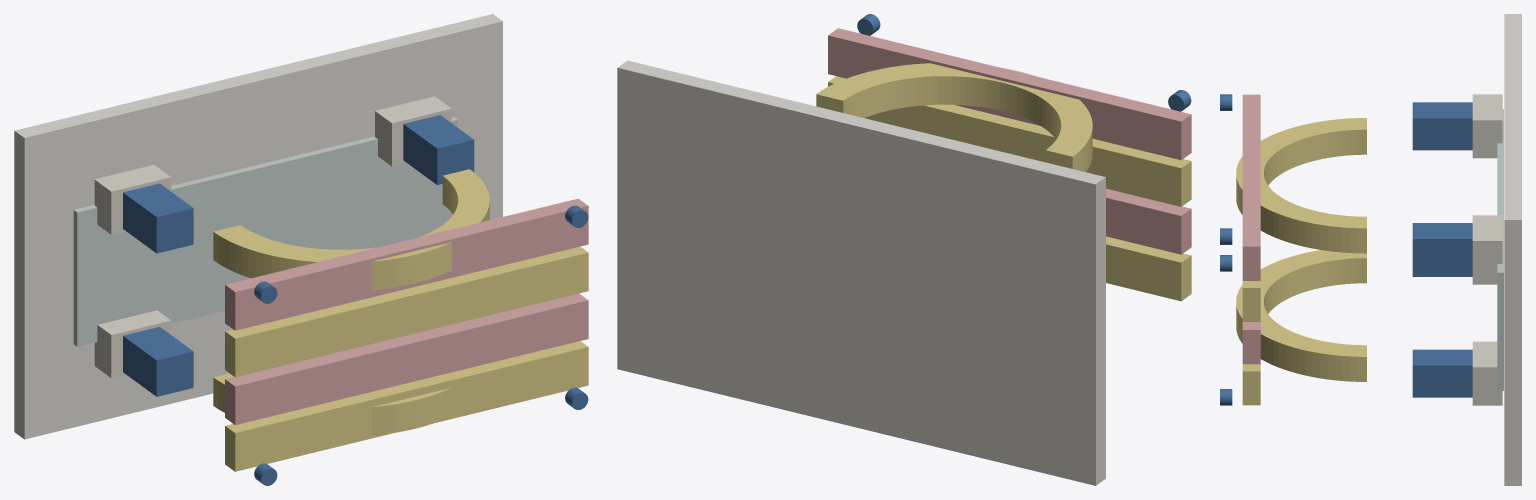
File: PLAYFORM_BRIDGE_EXPLODED.glb
3 views of the same model, side by side, from view 1: azimuth 30°, elevation 25°; view 2: azimuth 150°, elevation 25°; view 3: azimuth 270°, elevation 25° (orthographic). The views are drawn at different scales.
Visible parts, largest first — view 1: stage_base, river_patch, deck_plank_1, deck_plank_2, deck_plank_0, deck_plank_3, arch_0.64, pillar_-1.29_0.63, pillar_-1.29_-0.63, pillar_1.29_0.63, arch_-0.64, footing_-1.29_0.63 (+2 smaller); view 2: stage_base, arch_0.64, deck_plank_3, deck_plank_2, deck_plank_1, deck_plank_0; view 3: arch_0.64, arch_-0.64, stage_base, deck_plank_3, pillar_-1.29_0.63, pillar_1.29_-0.63, pillar_1.29_0.63, footing_-1.29_0.63, footing_1.29_0.63, footing_1.29_-0.63, river_patch, deck_plank_1 (+3 smaller).
Boxes of the visible parts, bbox=[...] form: stage_base: bbox=[14, 14, 502, 439]; river_patch: bbox=[73, 117, 457, 346]; deck_plank_1: bbox=[225, 293, 588, 424]; deck_plank_2: bbox=[225, 246, 588, 377]; deck_plank_0: bbox=[225, 341, 588, 471]; deck_plank_3: bbox=[225, 198, 588, 330]; arch_0.64: bbox=[213, 169, 489, 289]; pillar_-1.29_0.63: bbox=[123, 183, 193, 253]; pillar_-1.29_-0.63: bbox=[123, 326, 193, 396]; pillar_1.29_0.63: bbox=[403, 115, 474, 184]; arch_-0.64: bbox=[213, 373, 451, 435]; footing_-1.29_0.63: bbox=[94, 165, 171, 234]; stage_base: bbox=[617, 60, 1105, 485]; arch_0.64: bbox=[816, 63, 1092, 172]; deck_plank_3: bbox=[828, 28, 1191, 160]; deck_plank_2: bbox=[828, 76, 1191, 206]; deck_plank_1: bbox=[1106, 188, 1191, 254]; deck_plank_0: bbox=[1106, 236, 1191, 301]; arch_0.64: bbox=[1236, 118, 1366, 253]; arch_-0.64: bbox=[1236, 250, 1366, 381]; stage_base: bbox=[1504, 14, 1521, 485]; deck_plank_3: bbox=[1242, 94, 1260, 280]; pillar_-1.29_0.63: bbox=[1412, 102, 1472, 150]; pillar_1.29_-0.63: bbox=[1412, 349, 1472, 397]; pillar_1.29_0.63: bbox=[1412, 223, 1472, 270]; footing_-1.29_0.63: bbox=[1472, 94, 1502, 158]; footing_1.29_0.63: bbox=[1472, 215, 1502, 278]; footing_1.29_-0.63: bbox=[1472, 341, 1502, 405]; river_patch: bbox=[1497, 109, 1503, 390]; deck_plank_1: bbox=[1242, 322, 1260, 364].
Bounding box in the file's own units: 4.4 × 2.65 × 2.73.
